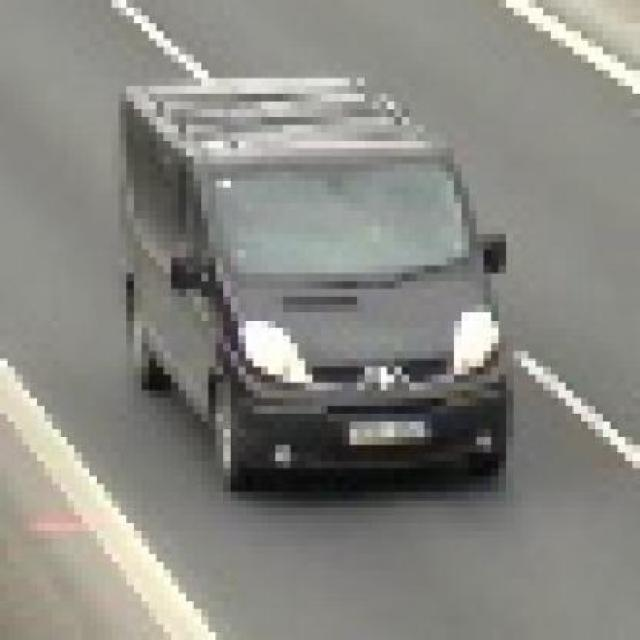vehicle: (96, 61, 536, 498)
